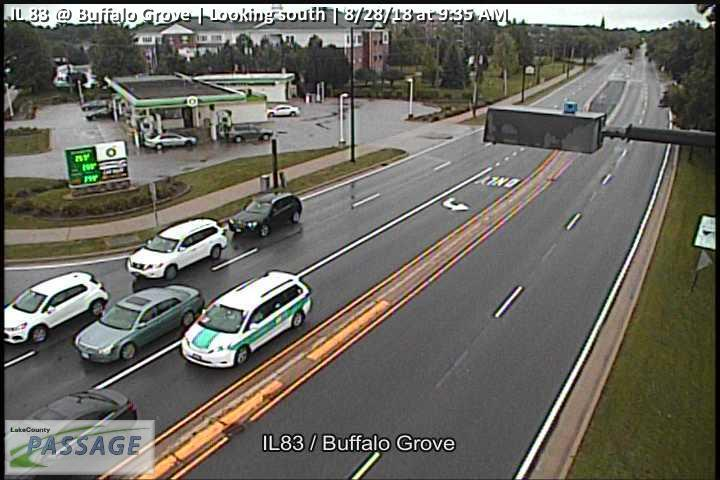SUV: (178, 270, 313, 368), (2, 272, 110, 345), (125, 218, 228, 283), (228, 193, 304, 237), (225, 123, 274, 144)
Sedan: (74, 285, 205, 363), (143, 133, 198, 151), (267, 104, 300, 119)
